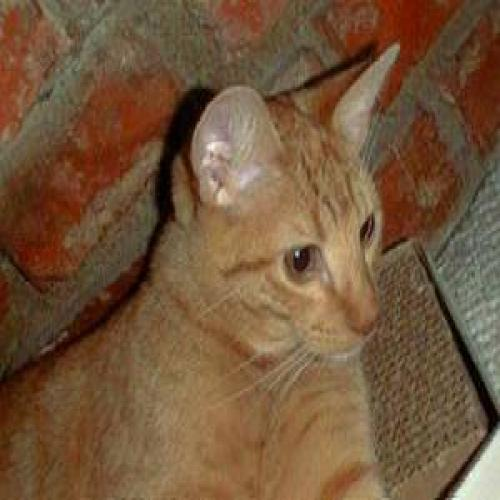bengal: (162, 35, 408, 363)
